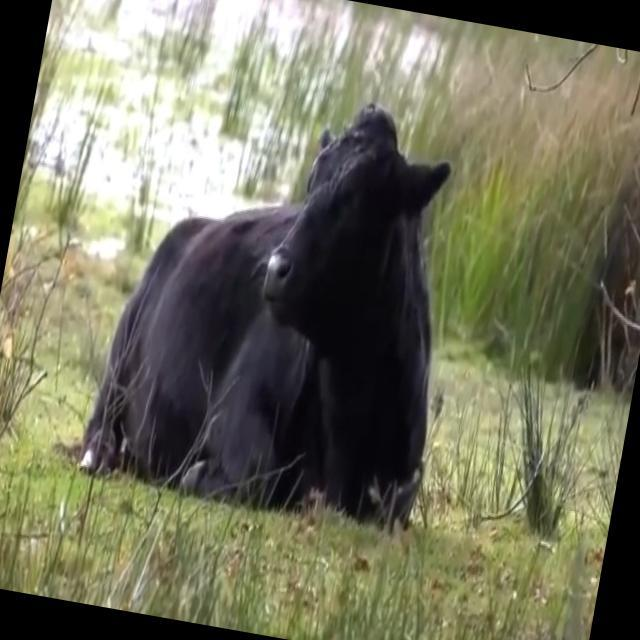COW: (81, 105, 448, 527)
